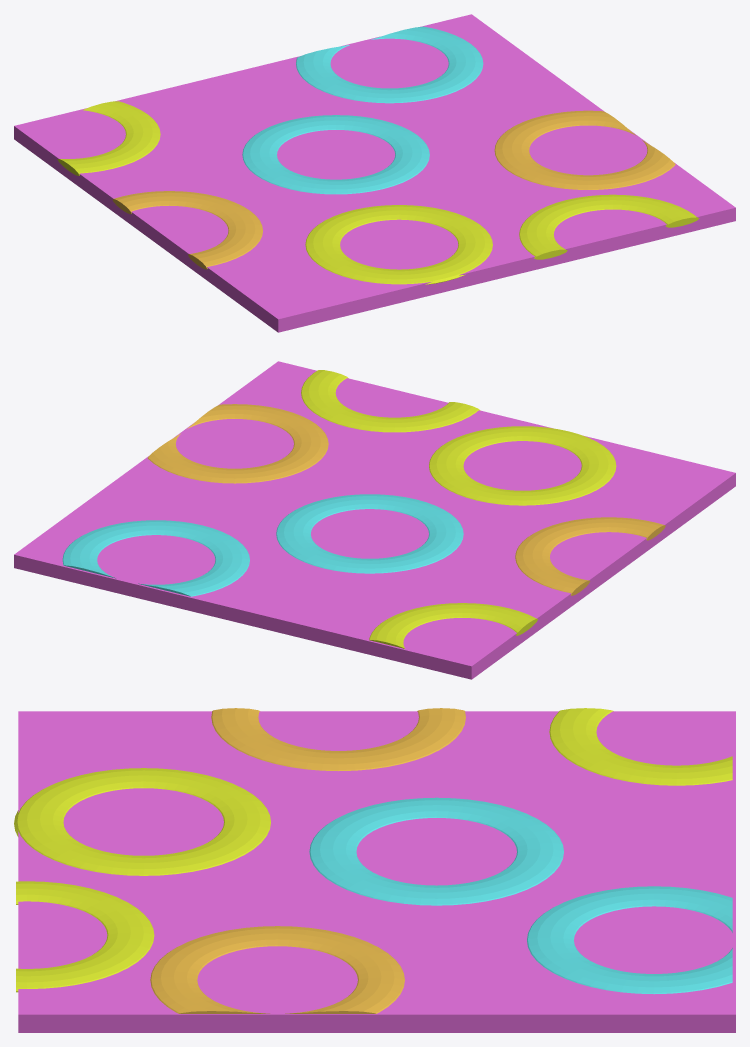
The model's file is rug.fbx.
3 views of the same model, one above another, from view 1: azimuth 30°, elevation 25°; view 2: azimuth 150°, elevation 25°; view 3: azimuth 270°, elevation 25° (orthographic). The views are drawn at different scales.
Parts seen in each view (by area): view 1: Cube, Torus.002, Torus.004, Torus.003, Torus.001, Torus.006, Torus.005, Torus; view 2: Cube, Torus.004, Torus.002, Torus.001, Torus.003, Torus.005, Torus.006, Torus; view 3: Cube, Torus.002, Torus.004, Torus.001, Torus.003, Torus.005, Torus.006, Torus.
Boxes of the visible parts, x1,y1,x2,y2 form: Cube: [14, 14, 735, 332]; Torus.002: [305, 205, 492, 284]; Torus.004: [242, 115, 429, 194]; Torus.003: [296, 26, 483, 103]; Torus.001: [494, 110, 675, 189]; Torus.006: [519, 194, 698, 259]; Torus.005: [112, 191, 262, 269]; Torus: [57, 101, 160, 175]; Cube: [14, 361, 735, 679]; Torus.004: [276, 494, 463, 573]; Torus.002: [429, 426, 616, 505]; Torus.001: [147, 404, 328, 483]; Torus.003: [62, 520, 249, 596]; Torus.005: [515, 517, 665, 595]; Torus.006: [301, 370, 480, 432]; Torus: [369, 603, 537, 648]; Cube: [18, 711, 735, 1032]; Torus.002: [14, 768, 270, 875]; Torus.004: [309, 797, 563, 905]; Torus.001: [150, 926, 404, 1013]; Torus.003: [527, 886, 732, 994]; Torus.005: [211, 708, 465, 771]; Torus.006: [16, 881, 154, 992]; Torus: [549, 708, 732, 785].
Bounding box in the file's own units: 2643 × 85.57 × 2656.
